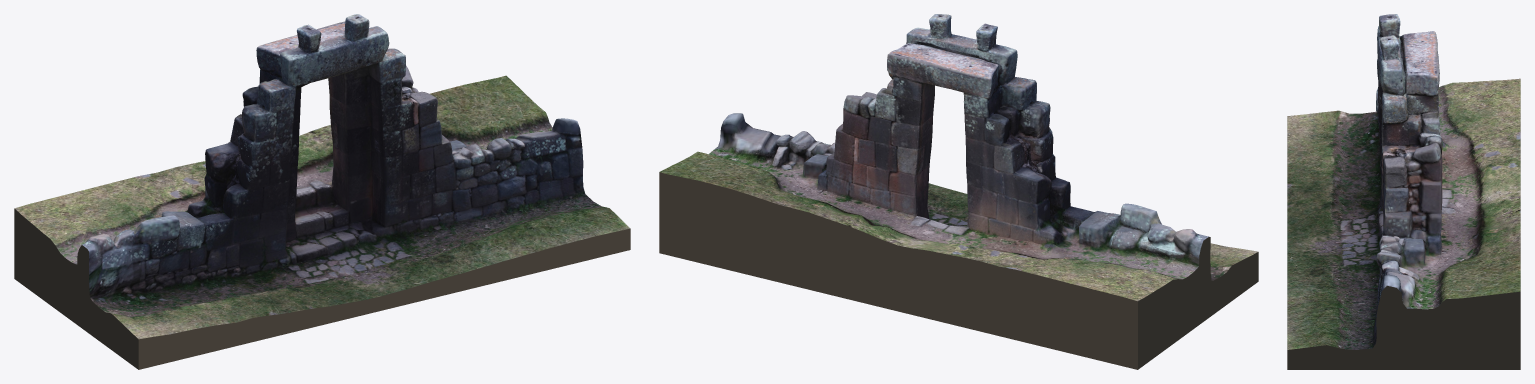
File: portada.glb
3 views of the same model, side by side, from view 1: azimuth 30°, elevation 25°; view 2: azimuth 150°, elevation 25°; view 3: azimuth 270°, elevation 25° (orthographic). The views are drawn at different scales.
Visible parts, largest first — view 1: Box001; view 2: Box001; view 3: Box001.
Boxes of the visible parts, <box> form: Box001: <box>14,14,630,369</box>; Box001: <box>659,14,1258,369</box>; Box001: <box>1287,14,1520,369</box>.
Size of the model in its own units: 504 by 241 by 221.
Materials: 1 (1 with a texture image).
